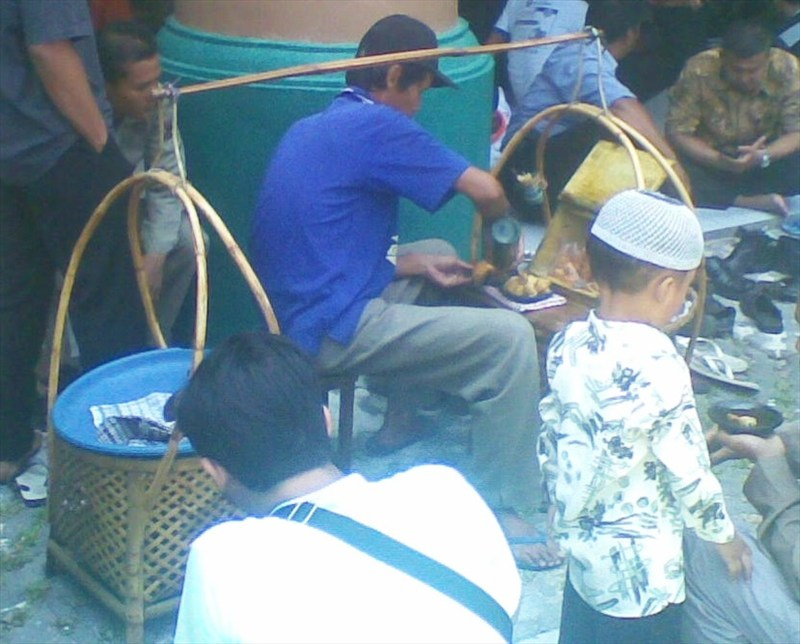Tahu Goreng: (82, 106, 738, 618)
